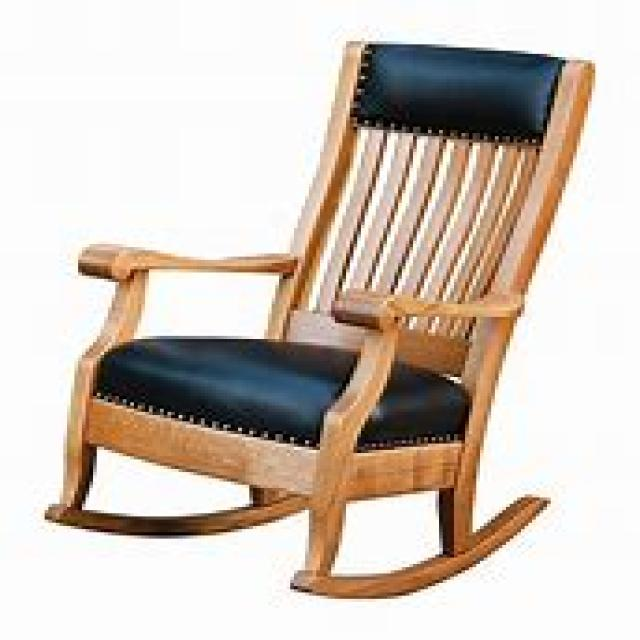chair: (41, 35, 595, 599)
